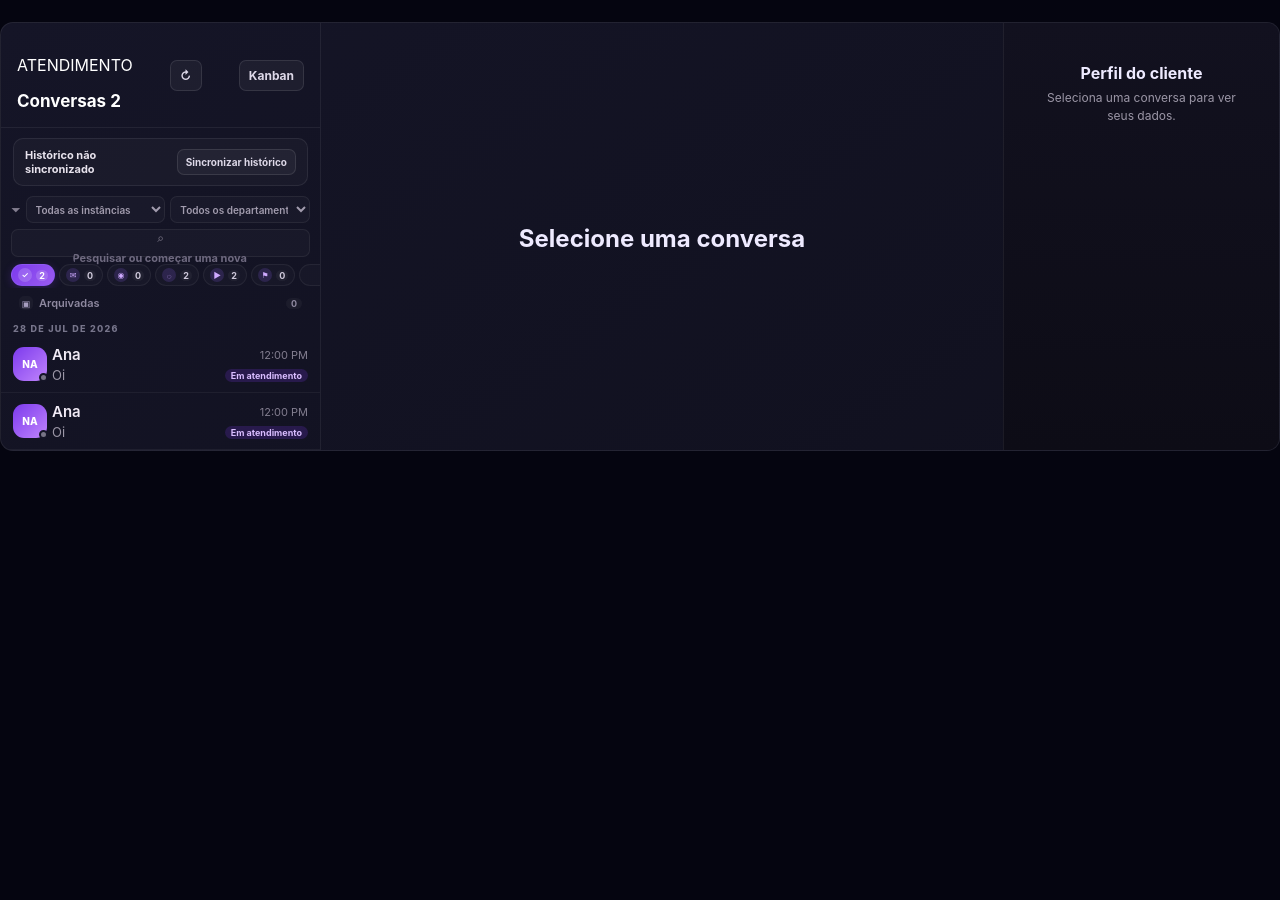
falha ao carregar as mensagens de uma conversa › mostra frase legível, sem o diagnóstico técnico que ia para a tela
The image size is (1280, 900).
Click the 1st button "NA Ana 12:00 PM Oi Em atendimento" at (30, 364), box [1, 336, 320, 393]
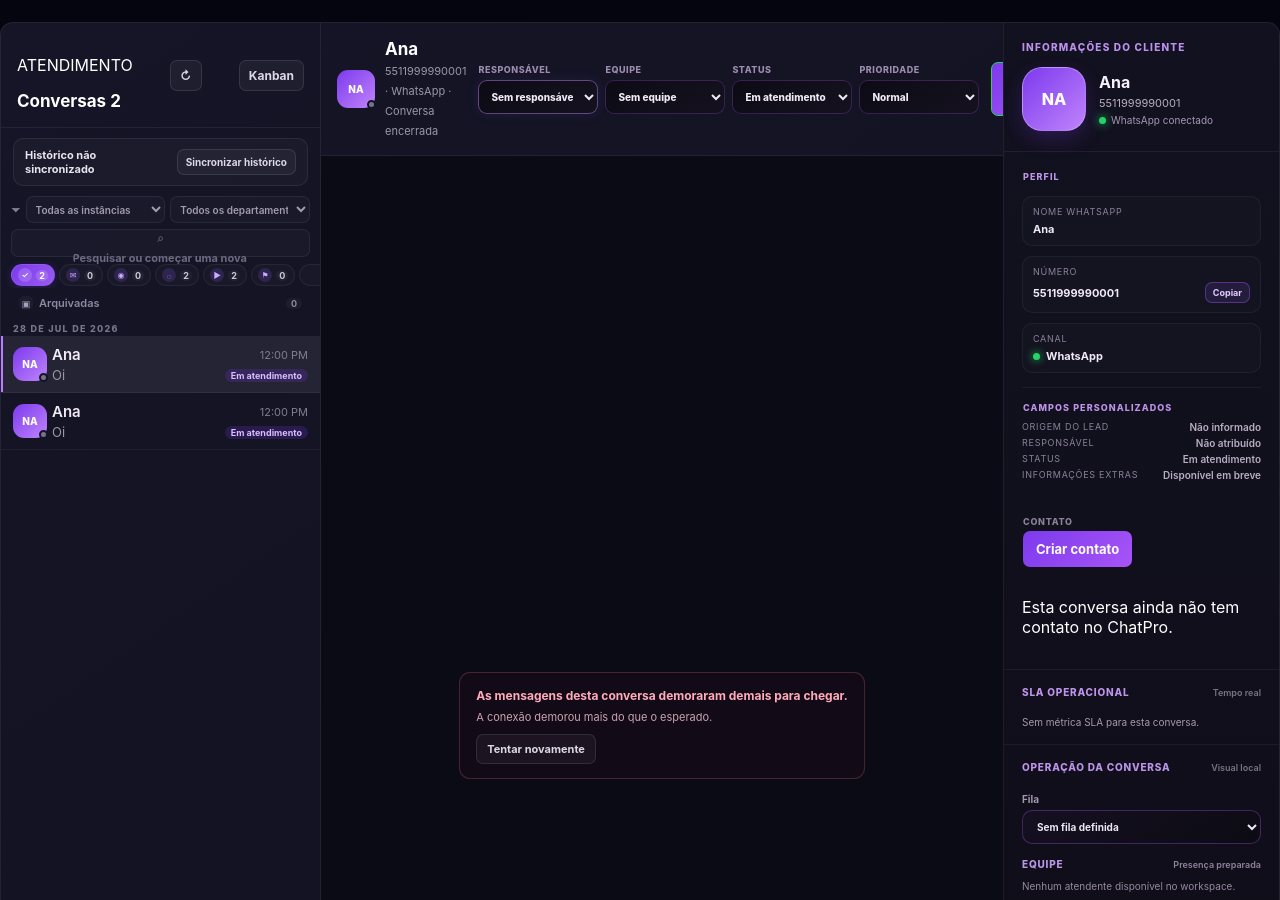
Check: the text "As mensagens desta conversa demoraram demais para chegar." is shown, box [476, 686, 848, 704]
